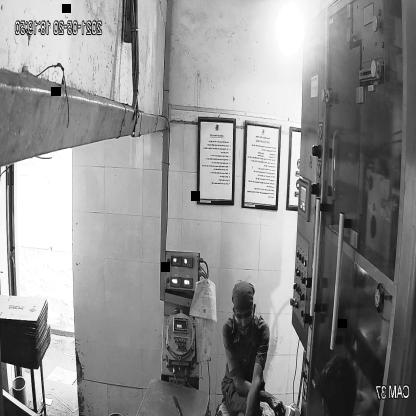goggles: (232, 304, 258, 328)
